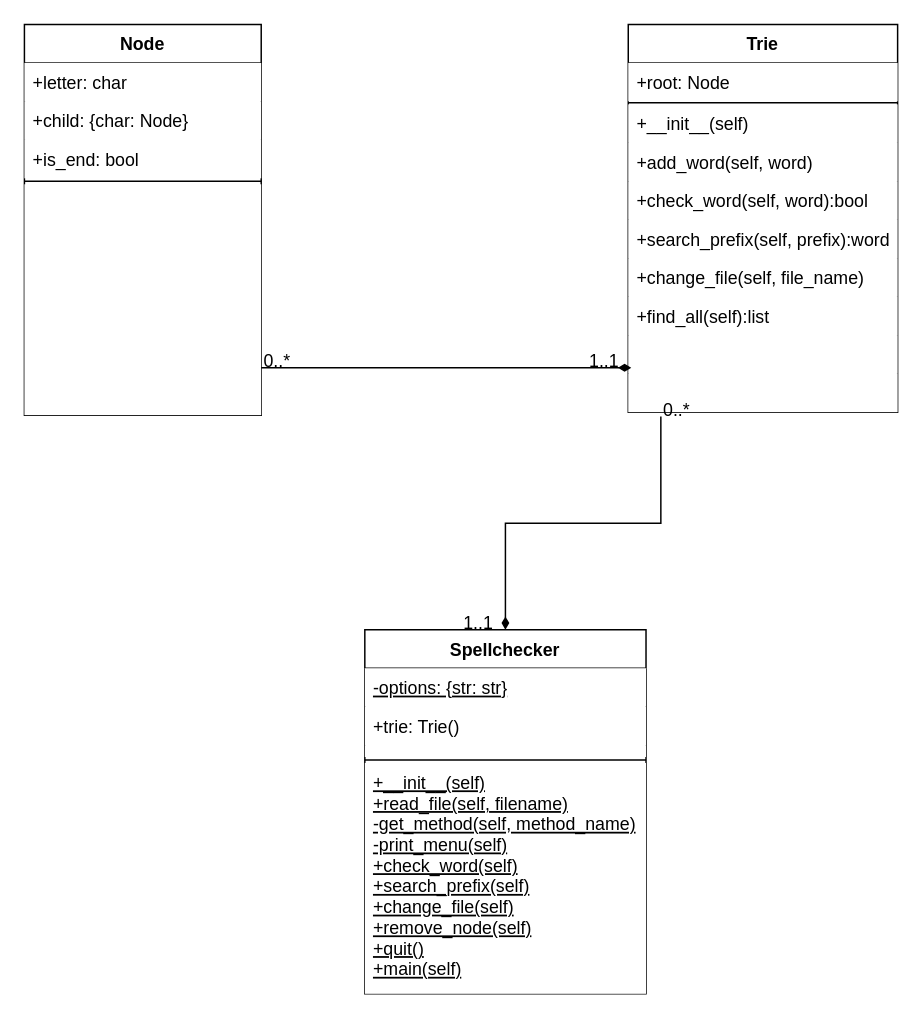
The diagram is 922 pixels wide and 1018 high, and some of its shapes have lost their labels. Here are the shapes that lost their labels. From the top down, the centre of each, then its label:
At pixel 142 299: "__init__(self, letter)".
At pixel 762 353: "+print_all(self)".
At pixel 762 392: "+remove_node(self, word)".
